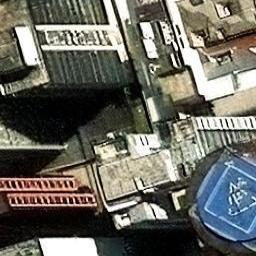heliponto: (205, 165, 255, 232)
